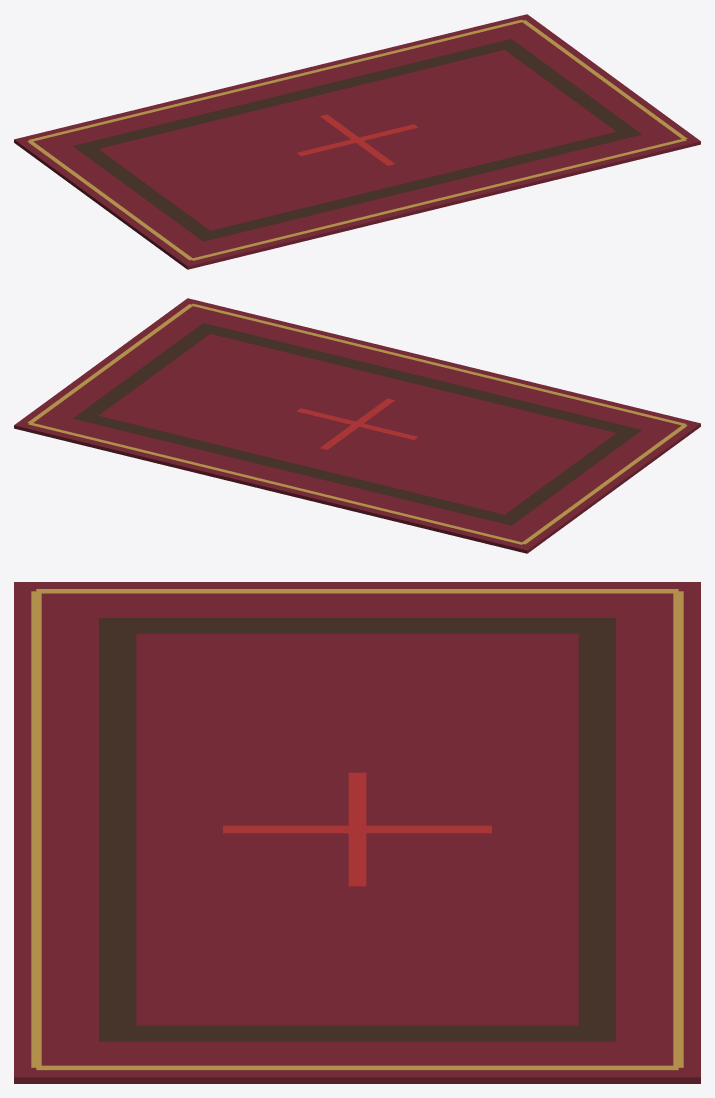
File: rugRectangle.glb
3 renders of one model, top to bottom at view 1: azimuth 30°, elevation 25°; view 2: azimuth 150°, elevation 25°; view 3: azimuth 270°, elevation 25°, orthographic. The views are drawn at different scales.
Visible parts, largest first — view 1: rugRectangle(Clone); view 2: rugRectangle(Clone); view 3: rugRectangle(Clone).
Boxes of the visible parts, x1,y1,x2,y2 form: rugRectangle(Clone): [14, 14, 700, 269]; rugRectangle(Clone): [14, 298, 700, 553]; rugRectangle(Clone): [14, 582, 700, 1083].
Bounding box in the file's own units: 1.57 × 0.01 × 0.92.
